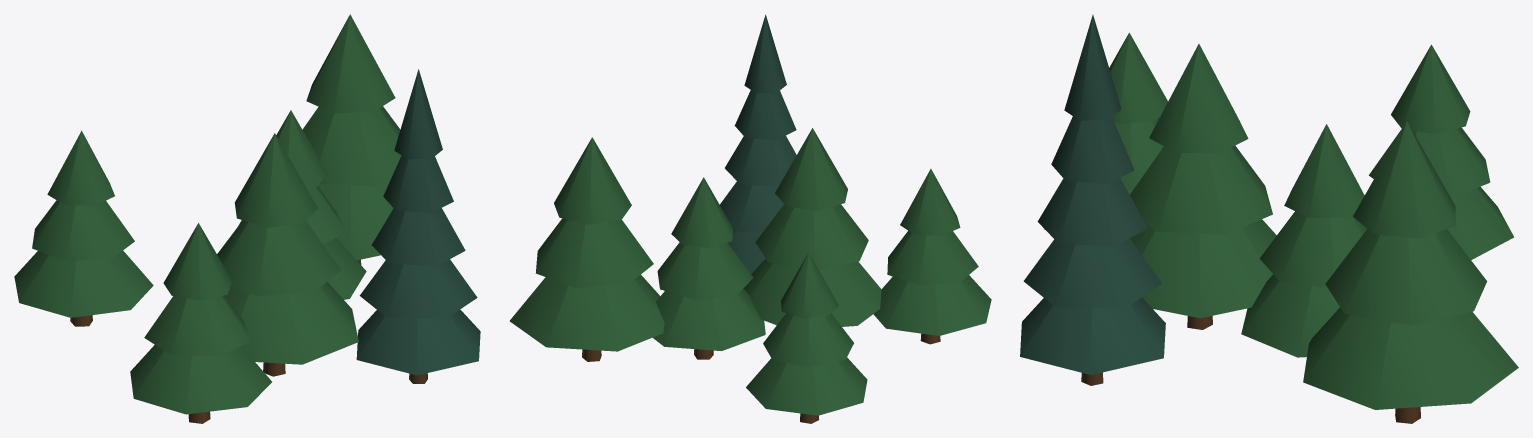
Rendered from sawyer_pine_stand_e.glb.
3 views of the same model, side by side, from view 1: azimuth 30°, elevation 25°; view 2: azimuth 150°, elevation 25°; view 3: azimuth 270°, elevation 25° (orthographic). The views are drawn at different scales.
Visible parts, largest first — view 1: pine_3_tier0, pine_0_tier0, pine_3_tier1, pine_2_tier0, spruce_4_tier0, pine_5_tier1, spruce_4_tier1, pine_5_tier2, pine_0_tier1, pine_2_tier1, pine_3_tier2, spruce_4_tier2 (+8 smaller); view 2: pine_5_tier0, pine_5_tier1, pine_3_tier1, pine_0_tier0, pine_2_tier0, pine_1_tier0, pine_3_tier0, pine_1_tier1, pine_5_tier2, pine_0_tier1, pine_2_tier1, pine_3_tier2 (+8 smaller); view 3: pine_5_tier0, pine_5_tier1, pine_3_tier0, pine_3_tier1, spruce_4_tier0, spruce_4_tier1, pine_5_tier2, pine_3_tier2, spruce_4_tier2, pine_1_tier1, pine_1_tier0, pine_1_tier2 (+7 smaller).
Boxes of the visible parts, x1,y1,x2,y2 form: pine_3_tier0: [225, 281, 358, 364]; pine_0_tier0: [130, 345, 271, 414]; pine_3_tier1: [217, 220, 340, 296]; pine_2_tier0: [14, 250, 153, 317]; spruce_4_tier0: [356, 309, 480, 375]; pine_5_tier1: [302, 106, 401, 186]; spruce_4_tier1: [359, 259, 477, 318]; pine_5_tier2: [306, 14, 395, 113]; pine_0_tier1: [144, 295, 250, 356]; pine_2_tier1: [32, 200, 134, 261]; pine_3_tier2: [234, 133, 317, 227]; spruce_4_tier2: [372, 208, 465, 266]; pine_5_tier0: [509, 274, 664, 351]; pine_5_tier1: [535, 218, 653, 288]; pine_3_tier1: [755, 204, 868, 270]; pine_0_tier0: [873, 275, 991, 335]; pine_2_tier0: [746, 357, 867, 415]; pine_1_tier0: [653, 288, 765, 351]; pine_3_tier0: [743, 258, 881, 326]; pine_1_tier1: [657, 242, 753, 299]; pine_5_tier2: [554, 137, 631, 224]; pine_0_tier1: [887, 230, 978, 285]; pine_2_tier1: [763, 313, 853, 367]; pine_3_tier2: [775, 128, 847, 210]; pine_5_tier0: [1303, 307, 1518, 409]; pine_5_tier1: [1325, 229, 1487, 325]; pine_3_tier0: [1130, 219, 1276, 318]; pine_3_tier1: [1130, 145, 1272, 234]; spruce_4_tier0: [1020, 297, 1165, 374]; spruce_4_tier1: [1023, 238, 1162, 308]; pine_5_tier2: [1353, 121, 1455, 238]; pine_3_tier2: [1149, 44, 1248, 153]; spruce_4_tier2: [1037, 178, 1147, 246]; pine_1_tier1: [1259, 211, 1366, 288]; pine_1_tier0: [1241, 274, 1339, 357]; pine_1_tier2: [1284, 124, 1364, 217].
Bounding box in the file's own units: 4.77 × 3.44 × 4.24.
